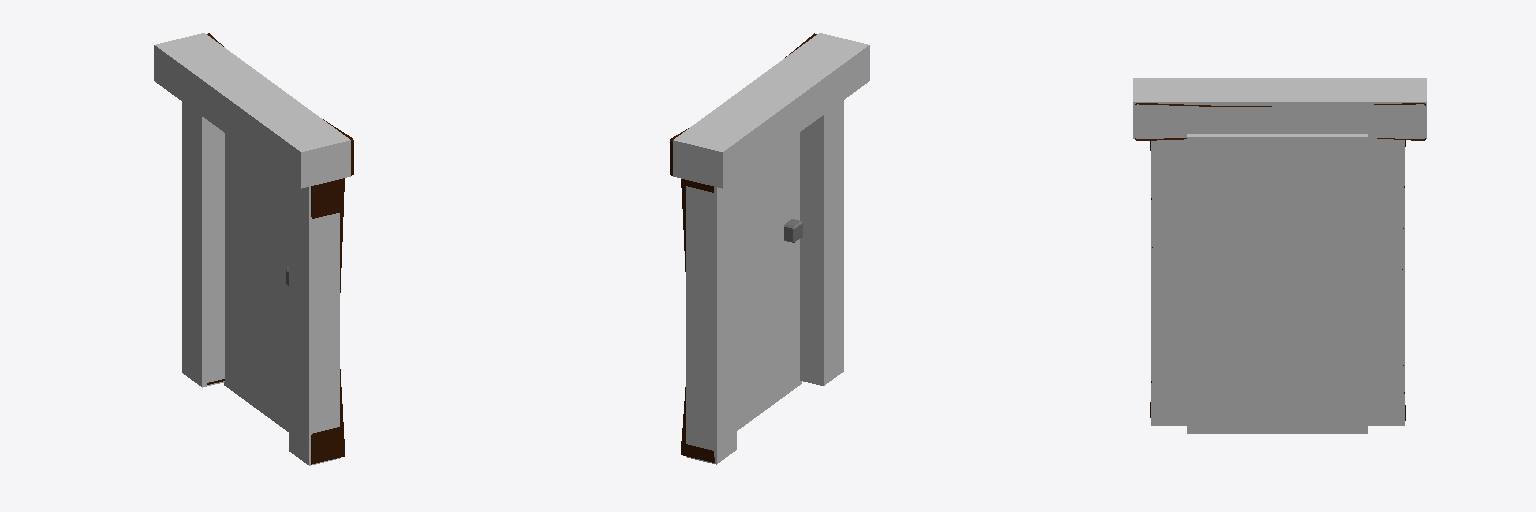
Rendered from door.obj.
The picture shows the model from 3 angles: view 1: azimuth 30°, elevation 25°; view 2: azimuth 150°, elevation 25°; view 3: azimuth 270°, elevation 25°; orthographic projection.
Visible parts, largest first — view 1: COLLISION_Cube, Door_Cube.002; view 2: COLLISION_Cube, Door_Cube.002; view 3: COLLISION_Cube.
Boxes of the visible parts, <box> form: COLLISION_Cube: <box>154,33,350,465</box>; Door_Cube.002: <box>207,33,353,464</box>; COLLISION_Cube: <box>673,33,869,464</box>; Door_Cube.002: <box>670,33,816,462</box>; COLLISION_Cube: <box>1133,78,1426,433</box>.
Bounding box in the file's own units: 0.4359 × 2.42 × 1.96.